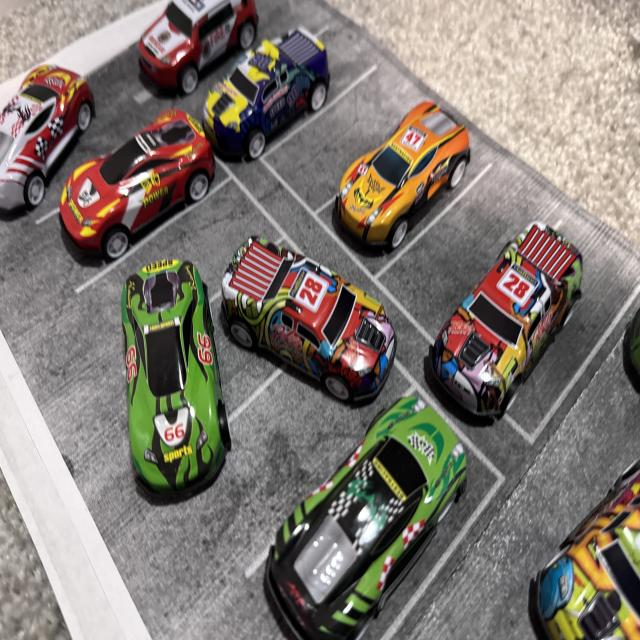Car: (276, 418, 471, 640), (212, 226, 426, 412), (98, 261, 260, 483), (437, 230, 595, 430), (308, 107, 501, 270), (72, 105, 242, 282), (196, 44, 350, 150), (0, 62, 88, 246), (122, 0, 235, 113)
